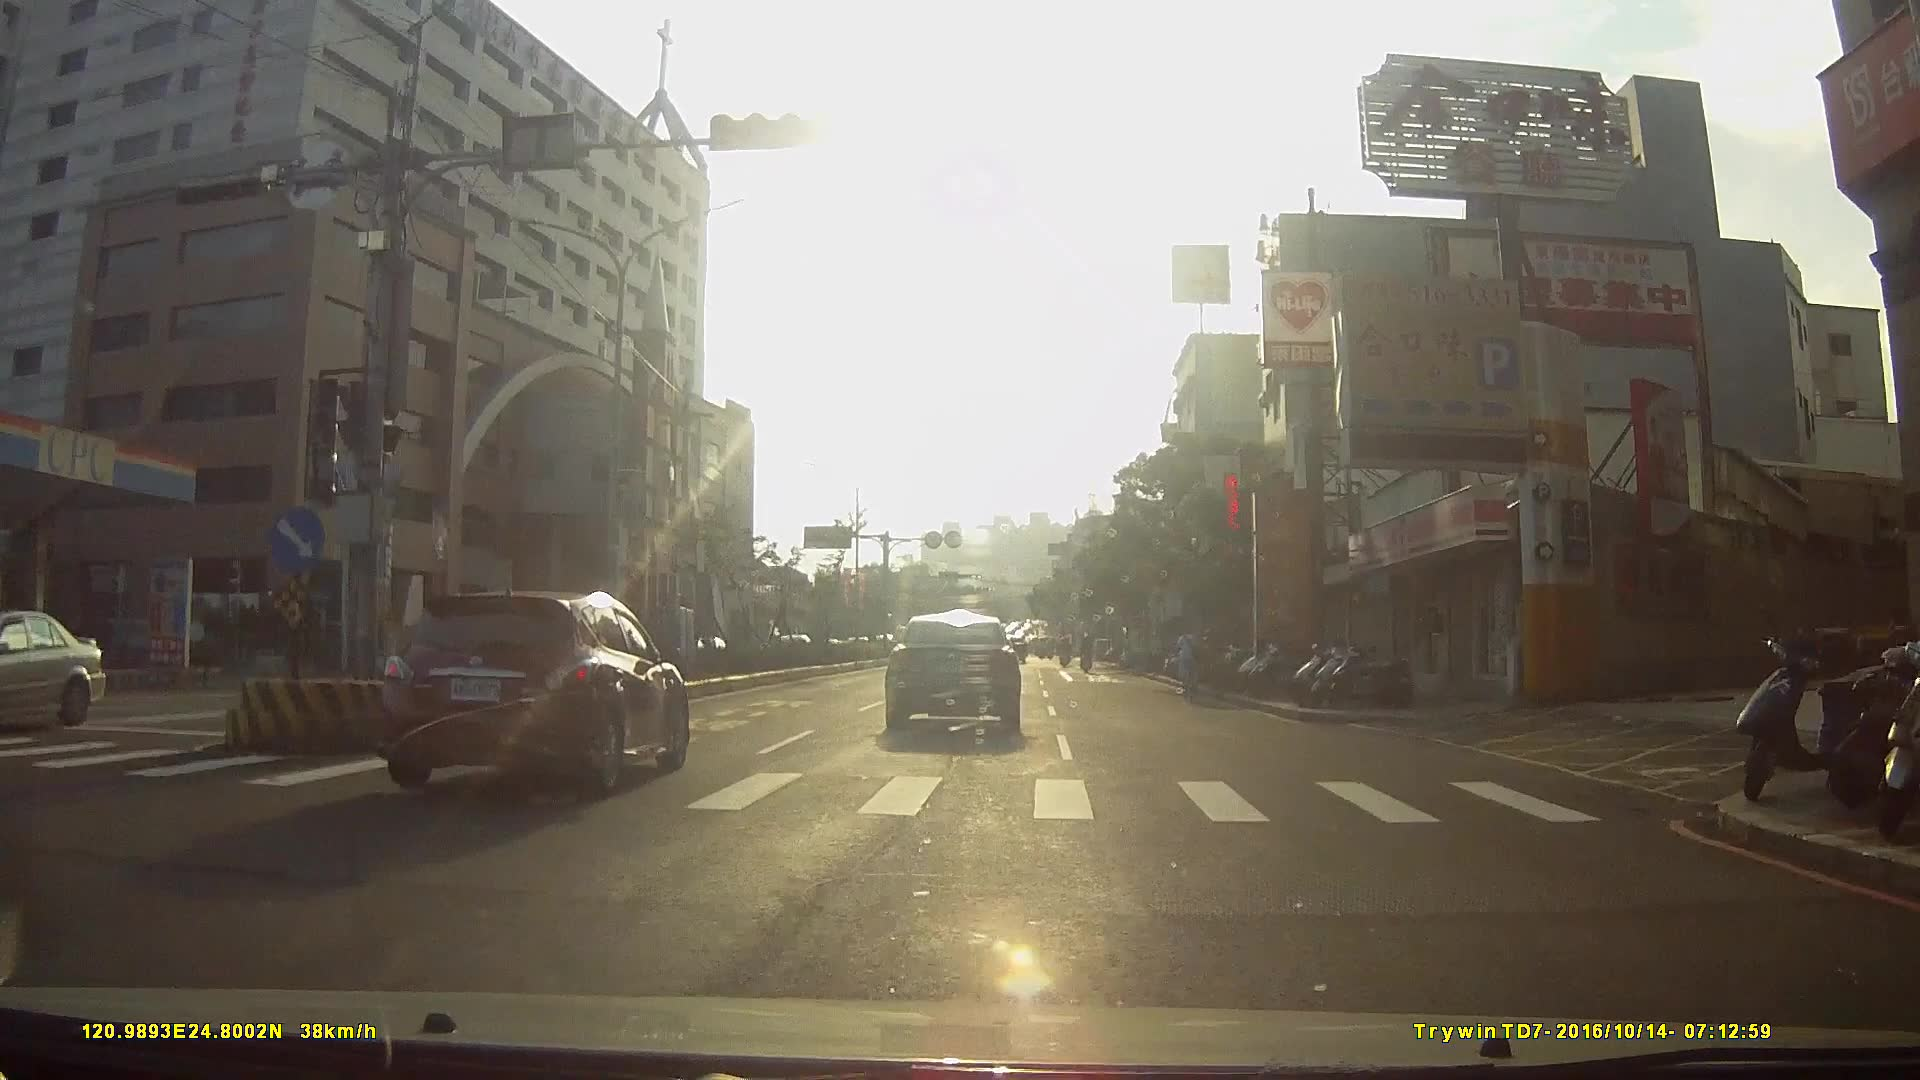rider: (1174, 622, 1204, 707)
vehicle: (369, 580, 701, 802), (880, 604, 1034, 739), (1, 608, 122, 737), (763, 607, 822, 662)
